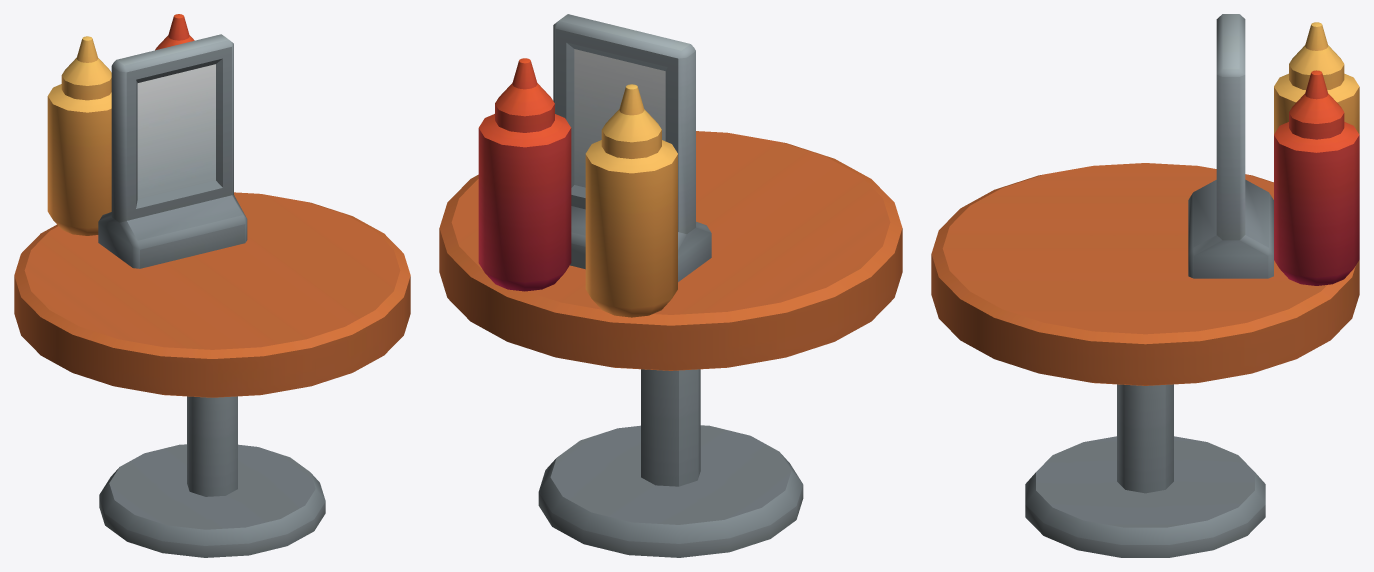
File: table-round-a-small-decorated.glb
The picture shows the model from 3 angles, left to right: view 1: azimuth 30°, elevation 25°; view 2: azimuth 150°, elevation 25°; view 3: azimuth 270°, elevation 25°; orthographic projection. The views are drawn at different scales.
Parts seen in each view (by area): view 1: table_round_A_small_decorated; view 2: table_round_A_small_decorated; view 3: table_round_A_small_decorated.
Part boxes in pixels (x1,y1,x2,y2): table_round_A_small_decorated: (14,14,410,557); table_round_A_small_decorated: (439,14,902,557); table_round_A_small_decorated: (931,14,1359,557).
Size of the model in its own units: 1.5 by 1.8 by 1.5.
1 material, 1 textured.
